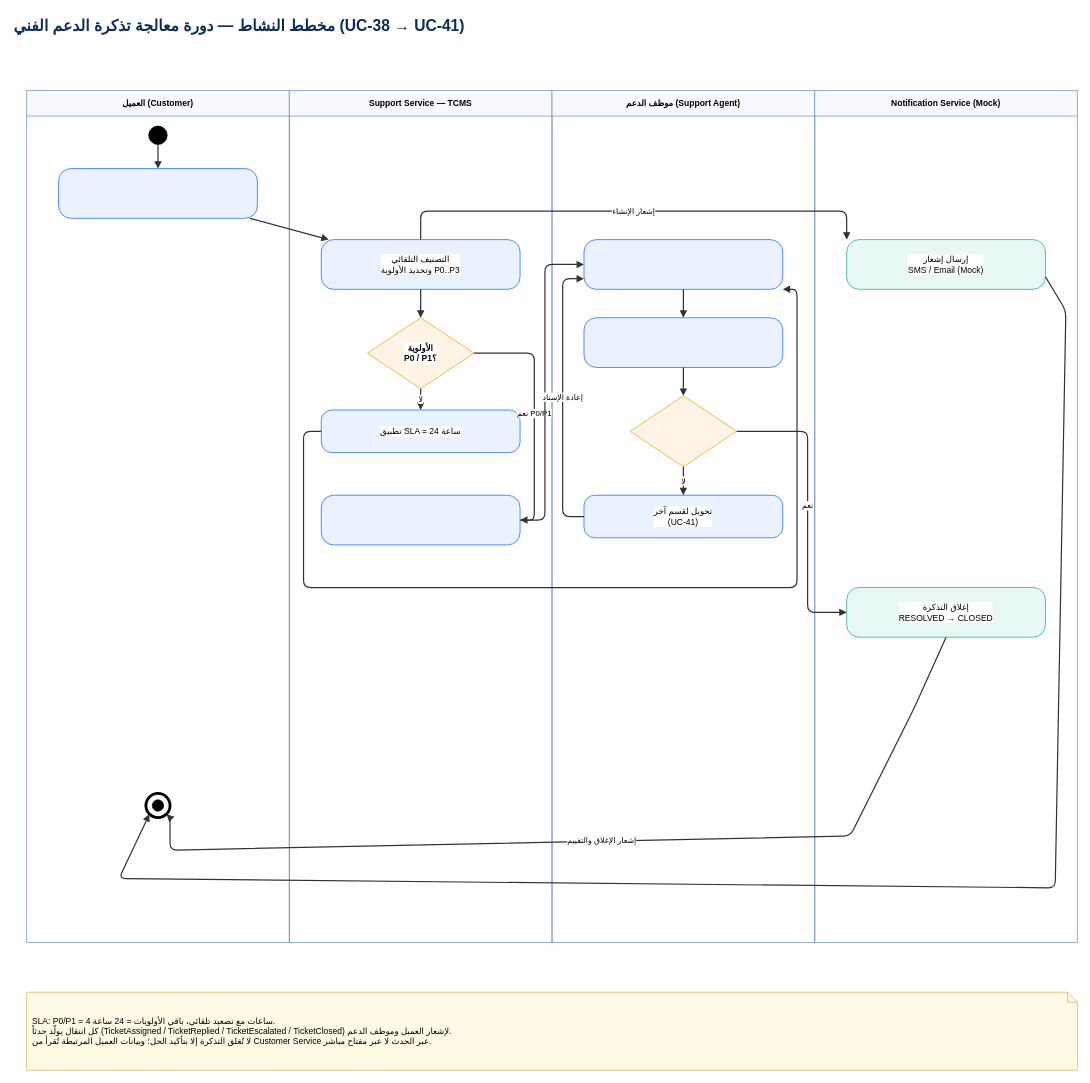
The diagram is 1090 pixels wide and 1083 high, and some of its shapes have lost their labels. Each missing label, with the centre of its shape:
"إسناد التذكرة لموظف (UC-39)" goes at point 683,264.
"تطبيق SLA = 4 ساعات + تصعيد تلقائي" goes at point 420,520.
"تم الحل؟" goes at point 683,431.
"فتح تذكرة جديدة (موضوع + وصف + تصنيف)" goes at point 157,193.
"متابعة الحالة UC-37 والردود UC-40" goes at point 683,342.
